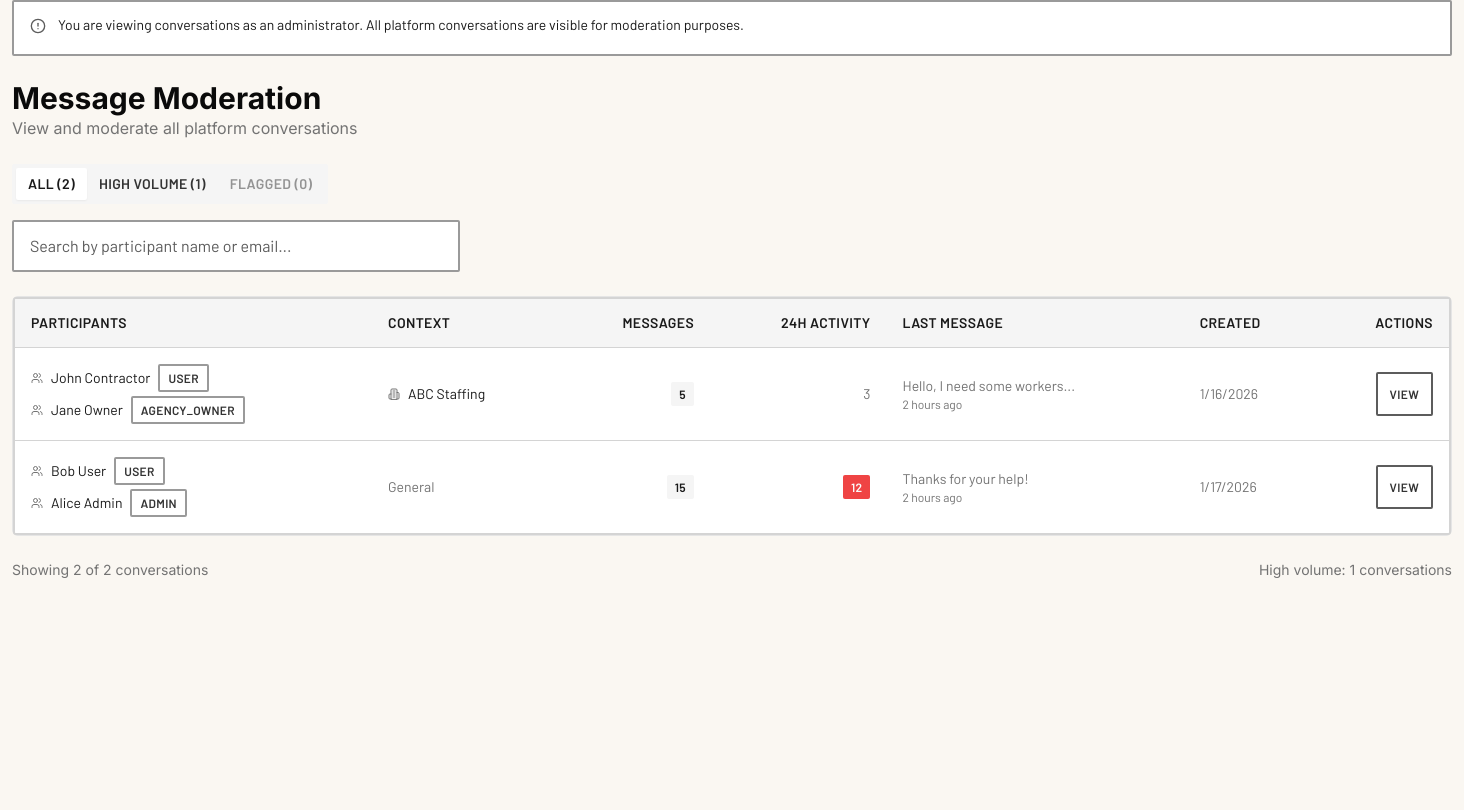
it: AdminMessagesClient › Search Functionality › should filter conversations by participant email
The width and height of the screenshot is (1464, 810).
Step 1. Type "jane@agency.com" into the search field with placeholder "Search by participant name or email..." → [236, 246], box [12,220,460,272]
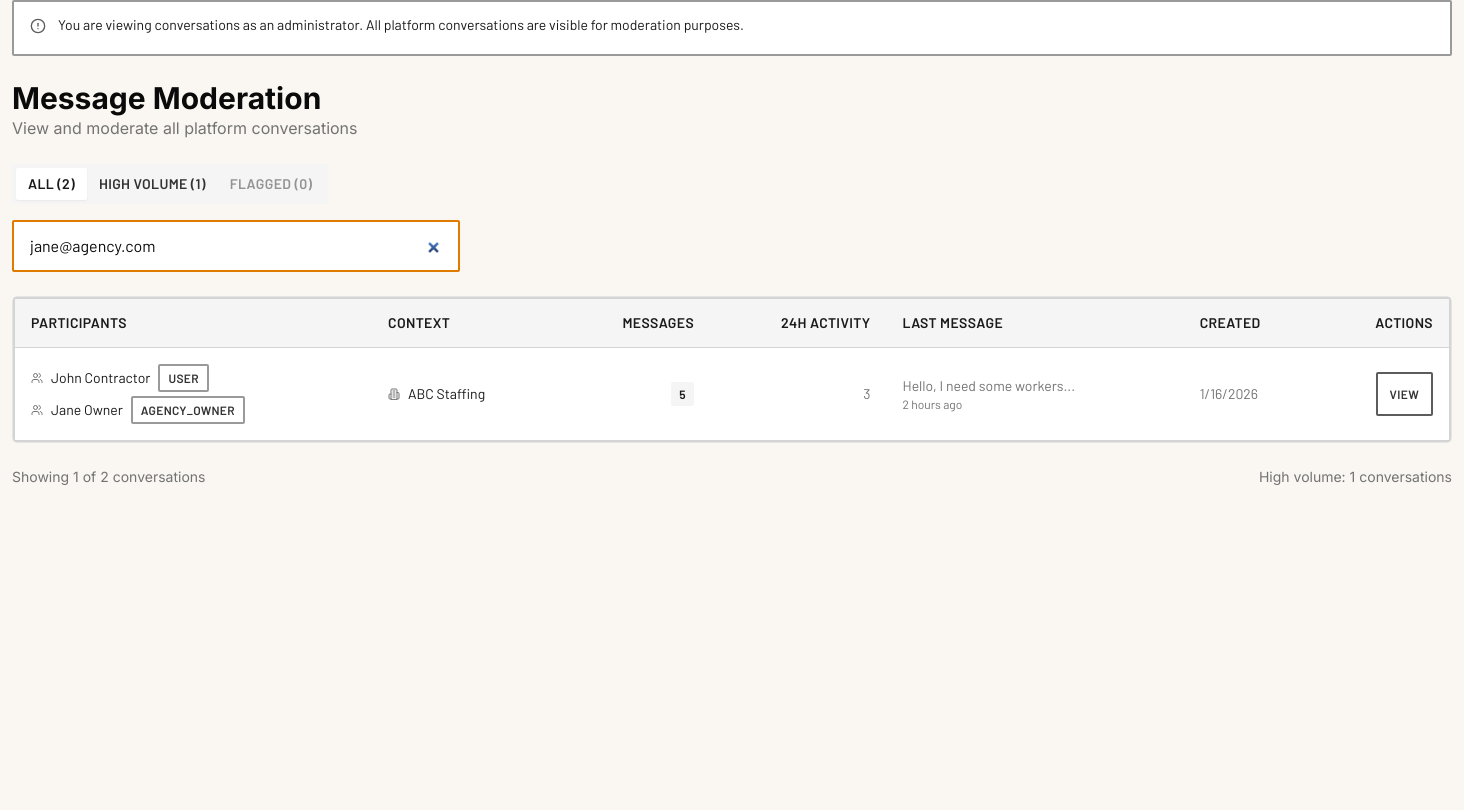
Expected: the text "Jane Owner" is shown, [51,400,123,420]
Result: the text "Bob User" is gone
